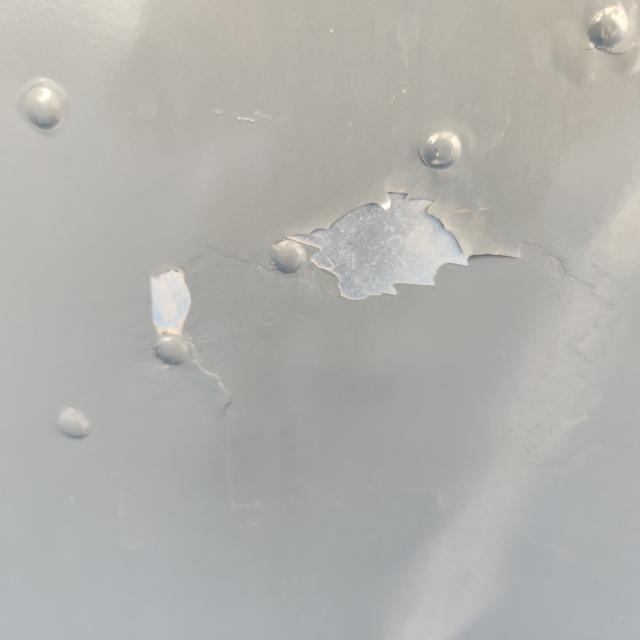paint-off: (273, 170, 536, 330), (138, 258, 204, 346)
